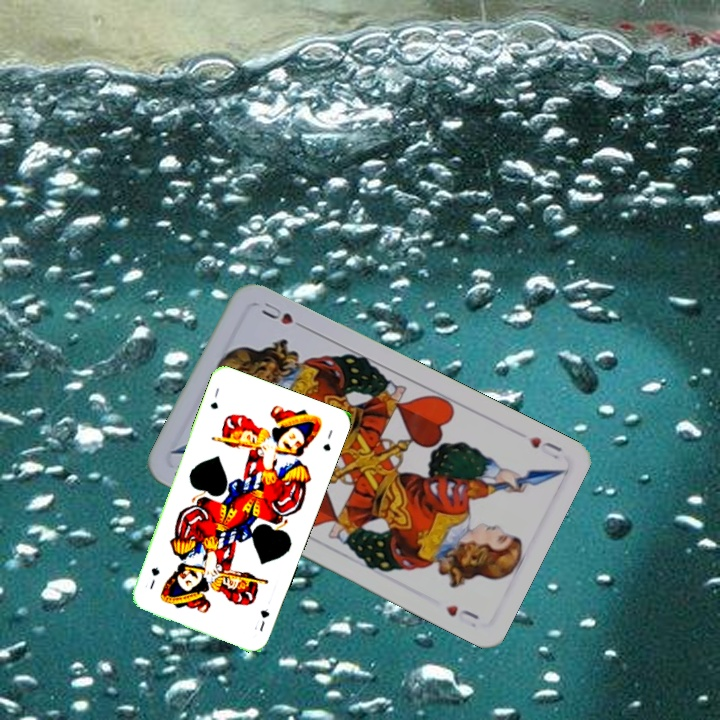GU: (250, 605, 272, 634), (206, 384, 222, 412)
HU: (525, 432, 565, 462)
